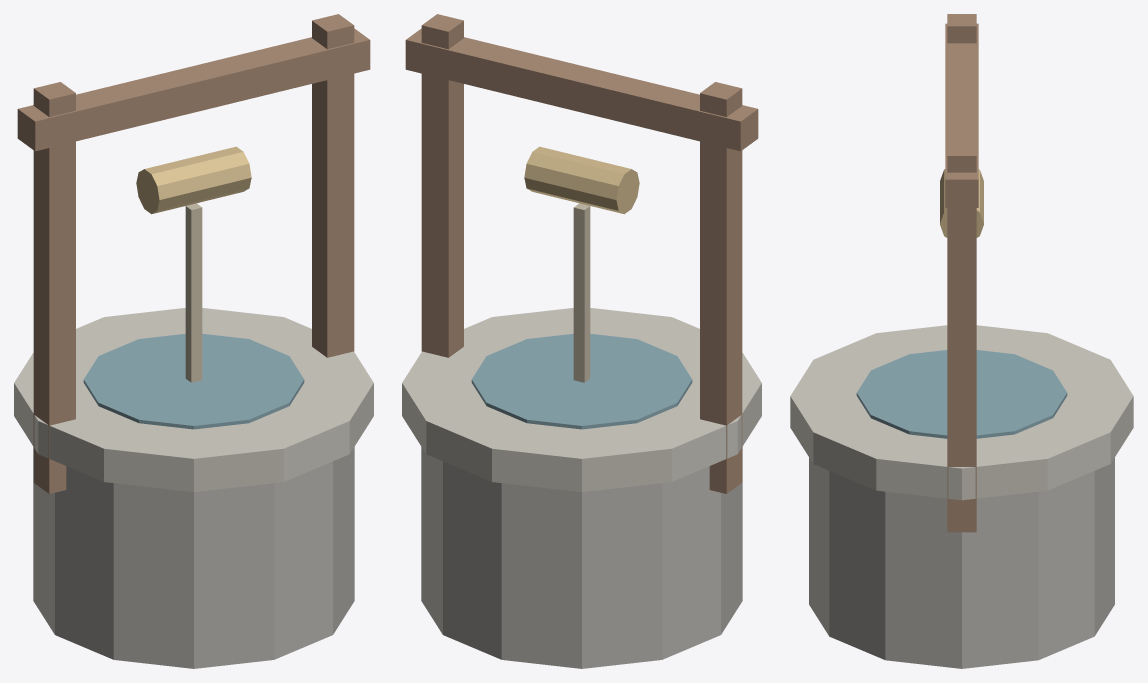
The model's file is village_water_well.glb.
3 views of the same model, side by side, from view 1: azimuth 30°, elevation 25°; view 2: azimuth 150°, elevation 25°; view 3: azimuth 270°, elevation 25° (orthographic). The views are drawn at different scales.
Visible parts, largest first — view 1: cylinder_0, cylinder_1, cylinder_2, box_5, box_3, box_4, cylinder_6, box_7; view 2: cylinder_0, cylinder_1, cylinder_2, box_5, box_3, box_4, cylinder_6, box_7; view 3: cylinder_0, cylinder_1, cylinder_2, box_4, box_5, box_3, cylinder_6.
Boxes of the visible parts, bbox=[...] form: cylinder_0: bbox=[33, 447, 354, 668]; cylinder_1: bbox=[14, 308, 373, 492]; cylinder_2: bbox=[83, 333, 304, 429]; box_5: bbox=[17, 28, 370, 151]; box_3: bbox=[33, 82, 75, 493]; box_4: bbox=[312, 14, 354, 357]; cylinder_6: bbox=[136, 146, 251, 214]; box_7: bbox=[185, 203, 202, 382]; cylinder_0: bbox=[421, 447, 742, 668]; cylinder_1: bbox=[402, 308, 761, 492]; cylinder_2: bbox=[471, 333, 692, 429]; box_5: bbox=[405, 28, 758, 151]; box_3: bbox=[700, 82, 742, 493]; box_4: bbox=[421, 14, 463, 357]; cylinder_6: bbox=[524, 146, 639, 214]; box_7: bbox=[573, 203, 590, 382]; cylinder_0: bbox=[809, 457, 1114, 668]; cylinder_1: bbox=[790, 325, 1133, 500]; cylinder_2: bbox=[856, 350, 1067, 438]; box_4: bbox=[947, 143, 976, 532]; box_5: bbox=[945, 23, 978, 207]; box_3: bbox=[947, 14, 976, 43]; cylinder_6: bbox=[940, 169, 983, 237].
Bounding box in the file's own units: 2 × 3.1 × 1.86.
